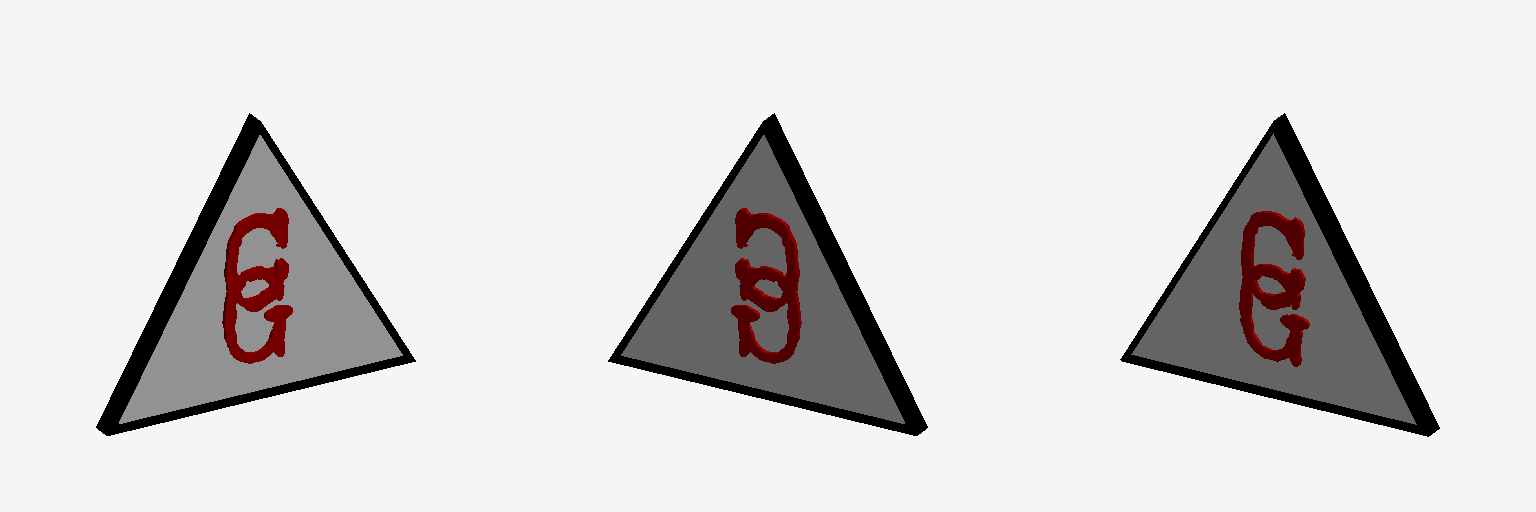
3 renders of one model, left to right at view 1: azimuth 30°, elevation 25°; view 2: azimuth 150°, elevation 25°; view 3: azimuth 330°, elevation 25°, orthographic.
Parts seen in each view (by area): view 1: Text.001_CUText.001; view 2: Text.001_CUText.001; view 3: Text.001_CUText.001.
Part boxes in pixels (left/top/right/bottom): Text.001_CUText.001: left=96, top=113, right=415, bottom=435; Text.001_CUText.001: left=608, top=113, right=927, bottom=435; Text.001_CUText.001: left=1120, top=113, right=1439, bottom=436.
Bounding box in the file's own units: 4.58 × 3.93 × 0.3115.